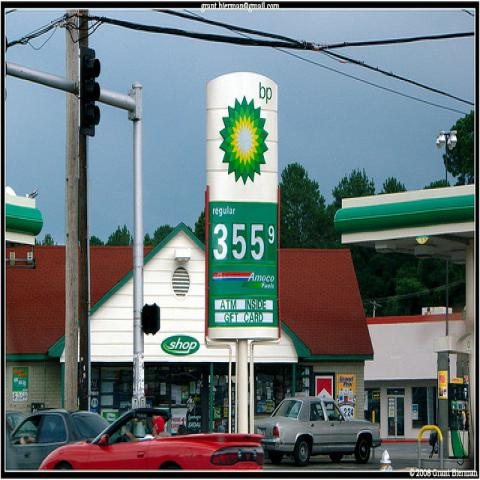car: (39, 408, 265, 471), (253, 396, 382, 466), (10, 408, 112, 474), (5, 410, 26, 473)
